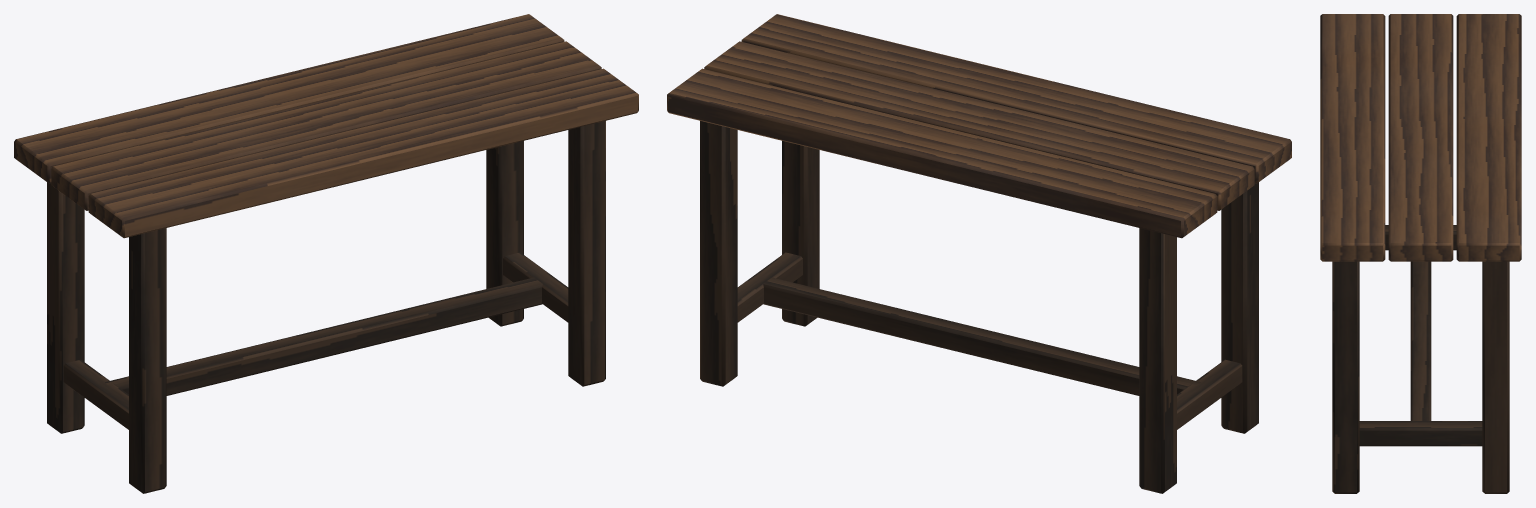
The model's file is SM_Workbench.glb.
3 views of the same model, side by side, from view 1: azimuth 30°, elevation 25°; view 2: azimuth 150°, elevation 25°; view 3: azimuth 270°, elevation 25° (orthographic). The views are drawn at different scales.
Visible parts, largest first — view 1: SM_Workbench; view 2: SM_Workbench; view 3: SM_Workbench.
Boxes of the visible parts, x1,y1,x2,y2 form: SM_Workbench: (14, 14, 638, 493); SM_Workbench: (667, 14, 1291, 493); SM_Workbench: (1320, 14, 1521, 493).
Bounding box in the file's own units: 1.6 × 0.85 × 0.59.
1 material, 1 textured.
